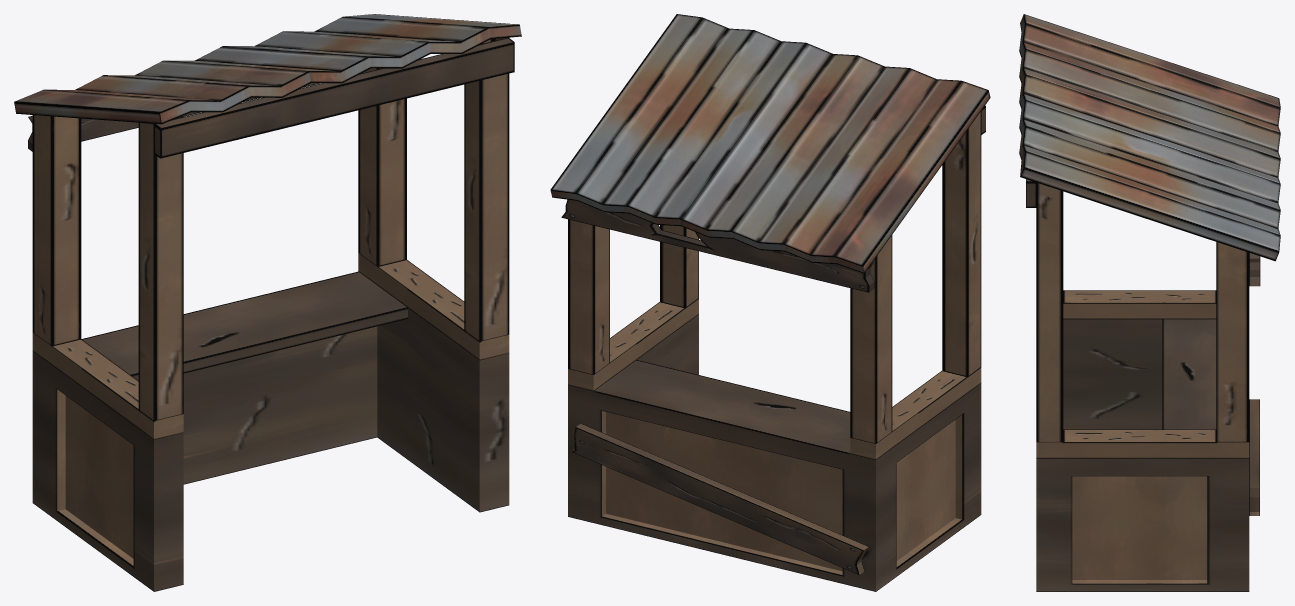
Rendered from stall_01.fbx.
The picture shows the model from 3 angles, left to right: view 1: azimuth 30°, elevation 25°; view 2: azimuth 150°, elevation 25°; view 3: azimuth 270°, elevation 25°; orthographic projection. The views are drawn at different scales.
Visible parts, largest first — view 1: Stall_01; view 2: Stall_01; view 3: Stall_01.
Part boxes in pixels (box(x1,y1,x2,y2)): Stall_01: box(14, 14, 521, 591); Stall_01: box(550, 14, 990, 591); Stall_01: box(1019, 14, 1280, 591).
Size of the model in its own units: 203 by 263 by 145.
1 material, 1 textured.
